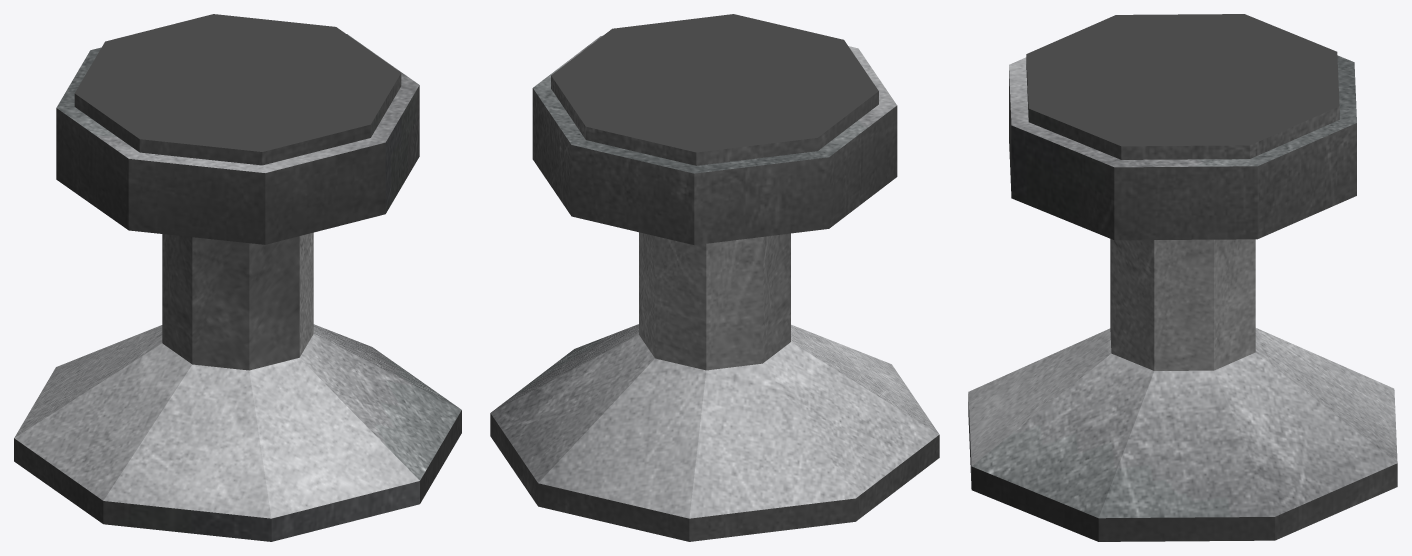
The model's file is Chair.fbx.
3 renders of one model, left to right at view 1: azimuth 30°, elevation 25°; view 2: azimuth 150°, elevation 25°; view 3: azimuth 270°, elevation 25°, orthographic. The views are drawn at different scales.
Visible parts, largest first — view 1: Circle.004; view 2: Circle.004; view 3: Circle.004.
Part boxes in pixels (<box>): Circle.004: <box>14,14,461,541</box>; Circle.004: <box>490,14,939,541</box>; Circle.004: <box>968,14,1397,541</box>.
Size of the model in its own units: 106 by 101 by 106.
